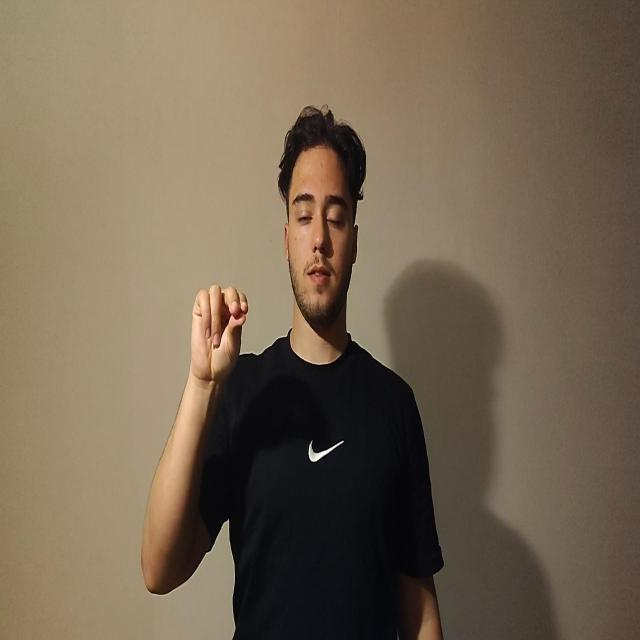no: (190, 283, 248, 383)
